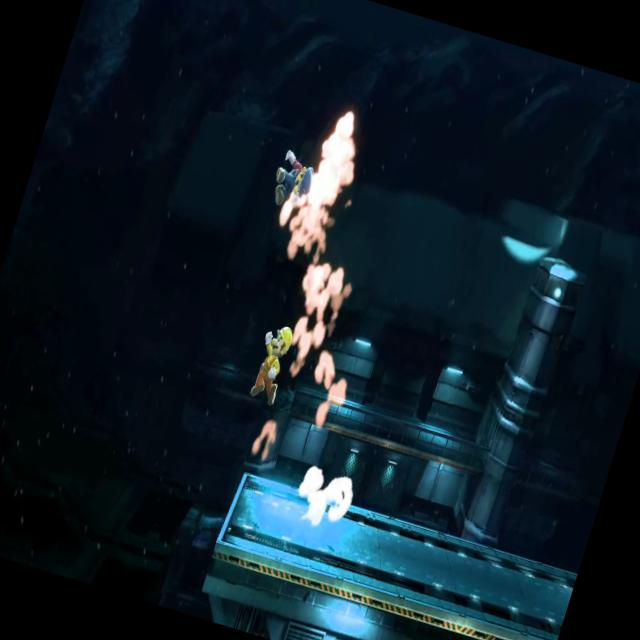Mario: (261, 136, 327, 218)
Mario-jump: (241, 316, 300, 412)
